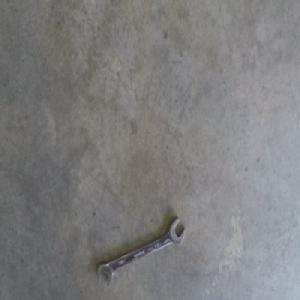Wrench: (97, 217, 185, 284)
